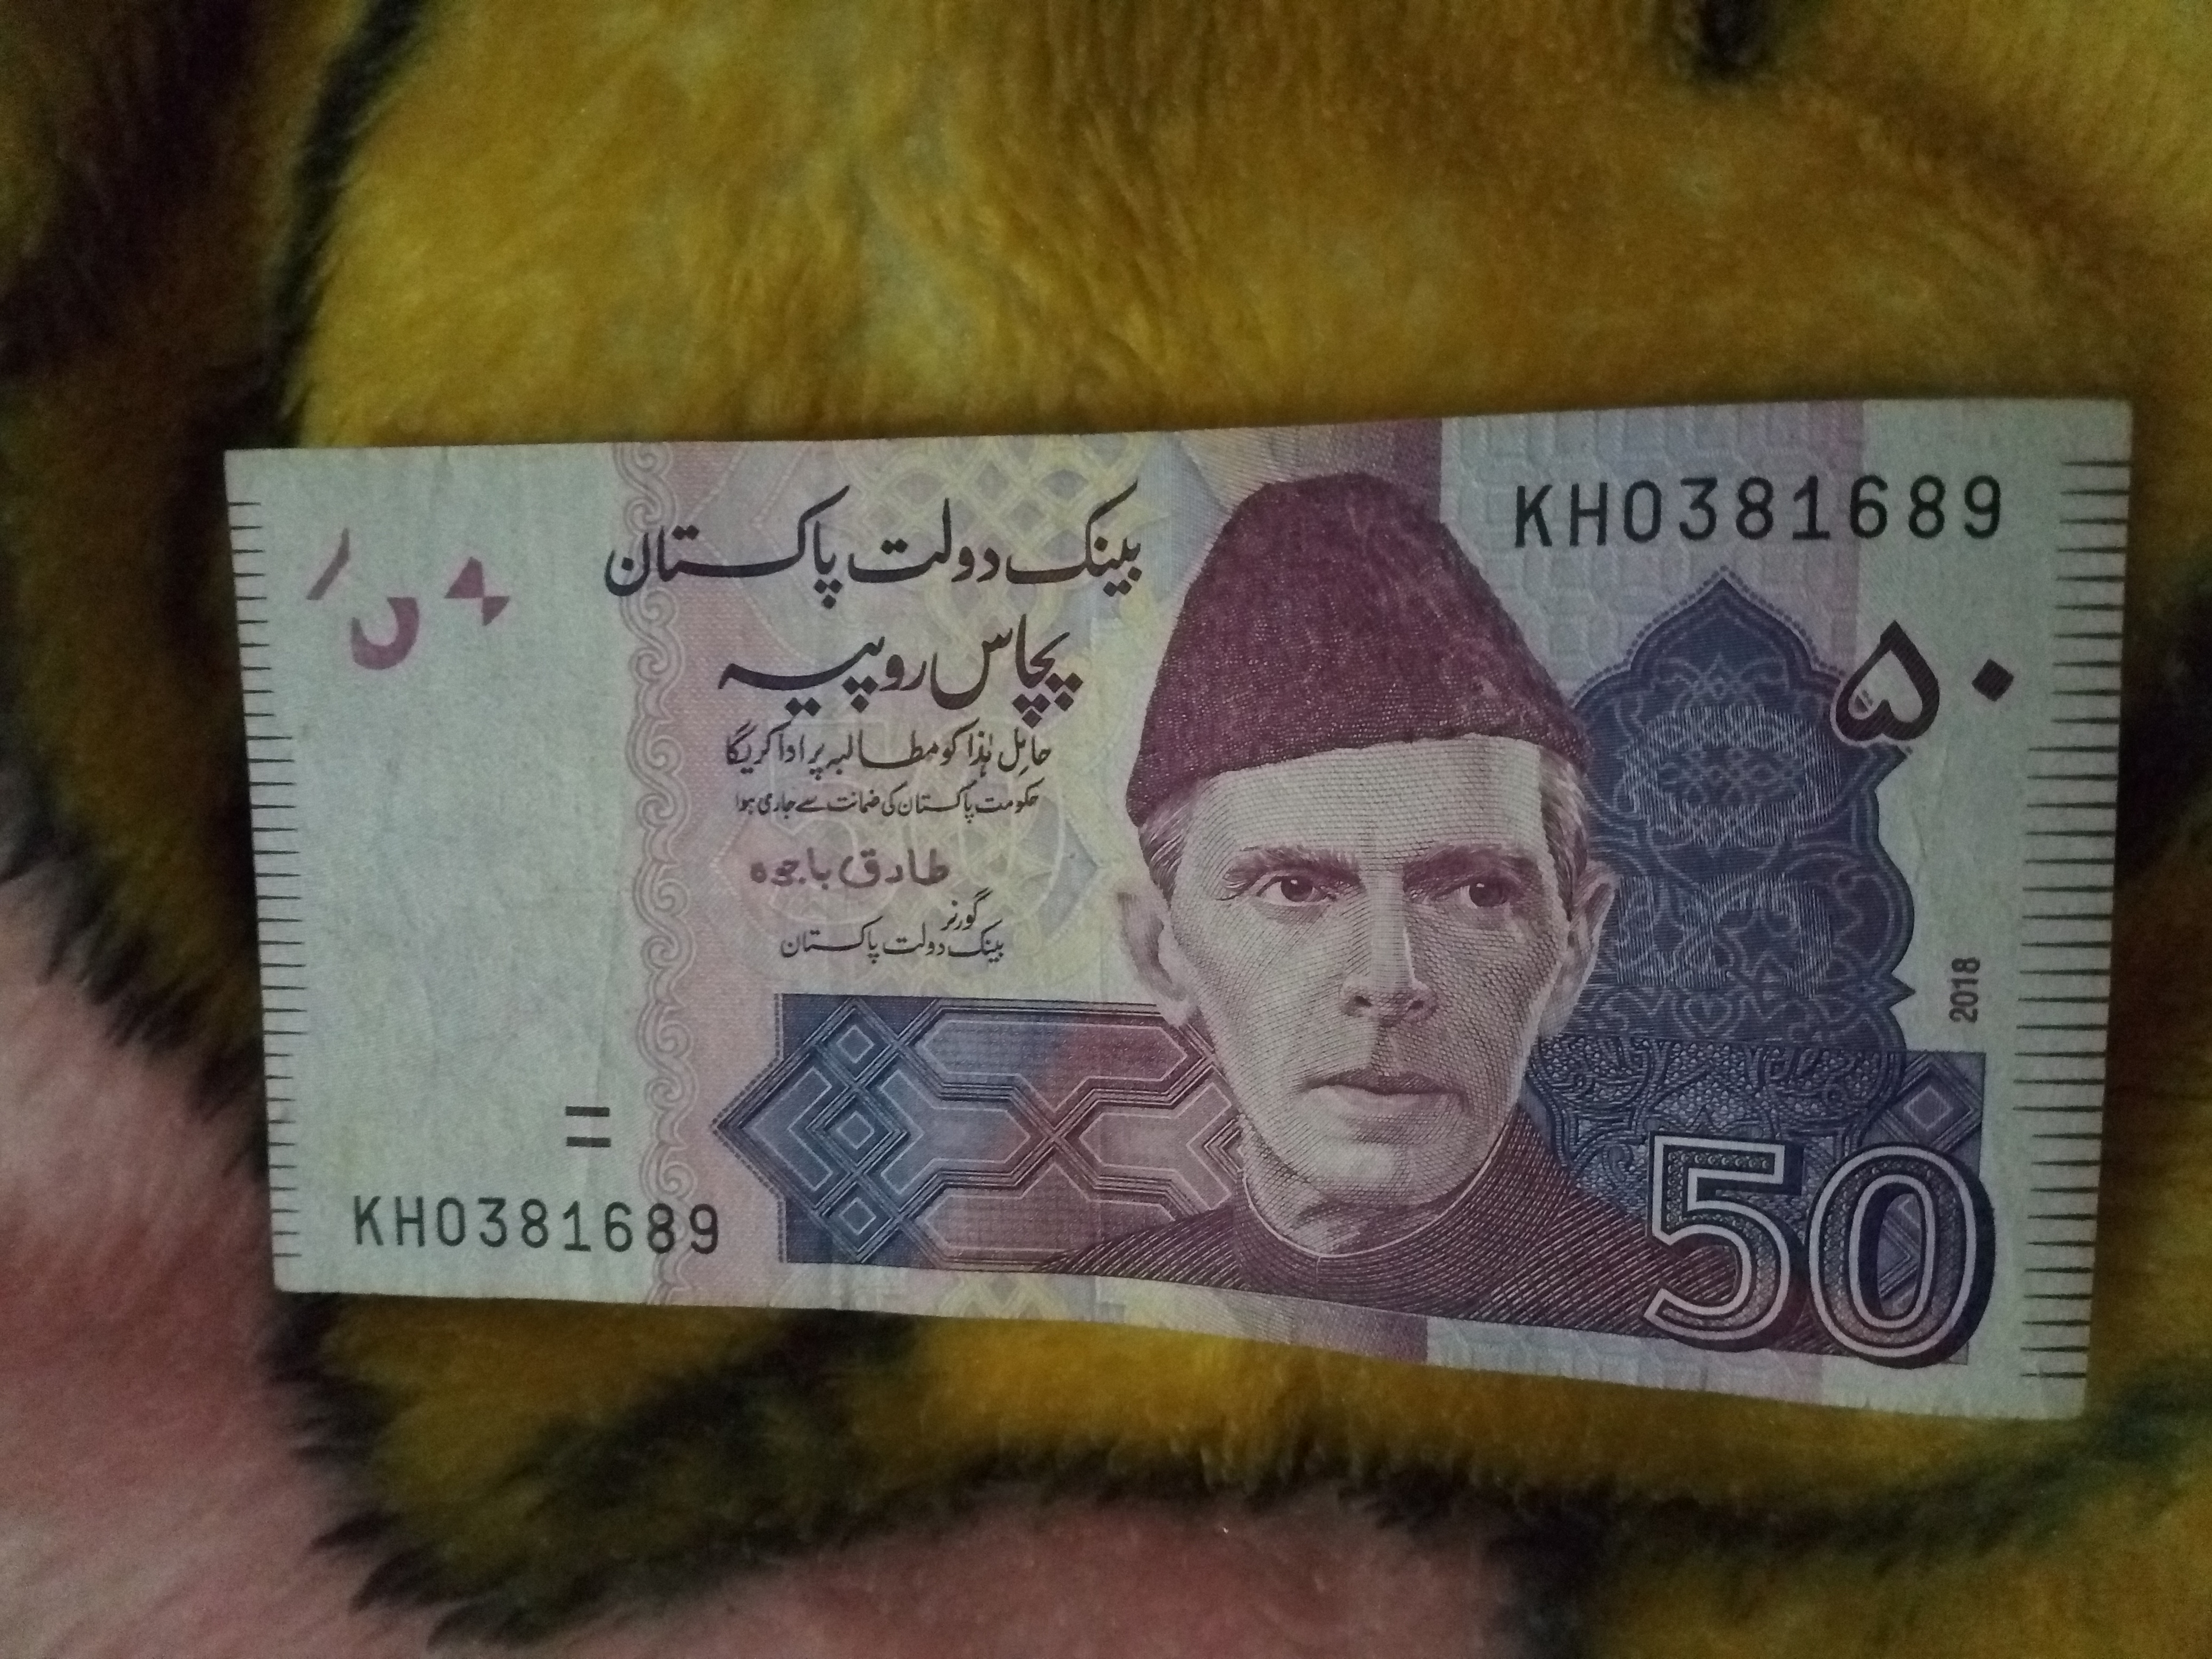50 rupee: (139, 378, 2161, 1535)
